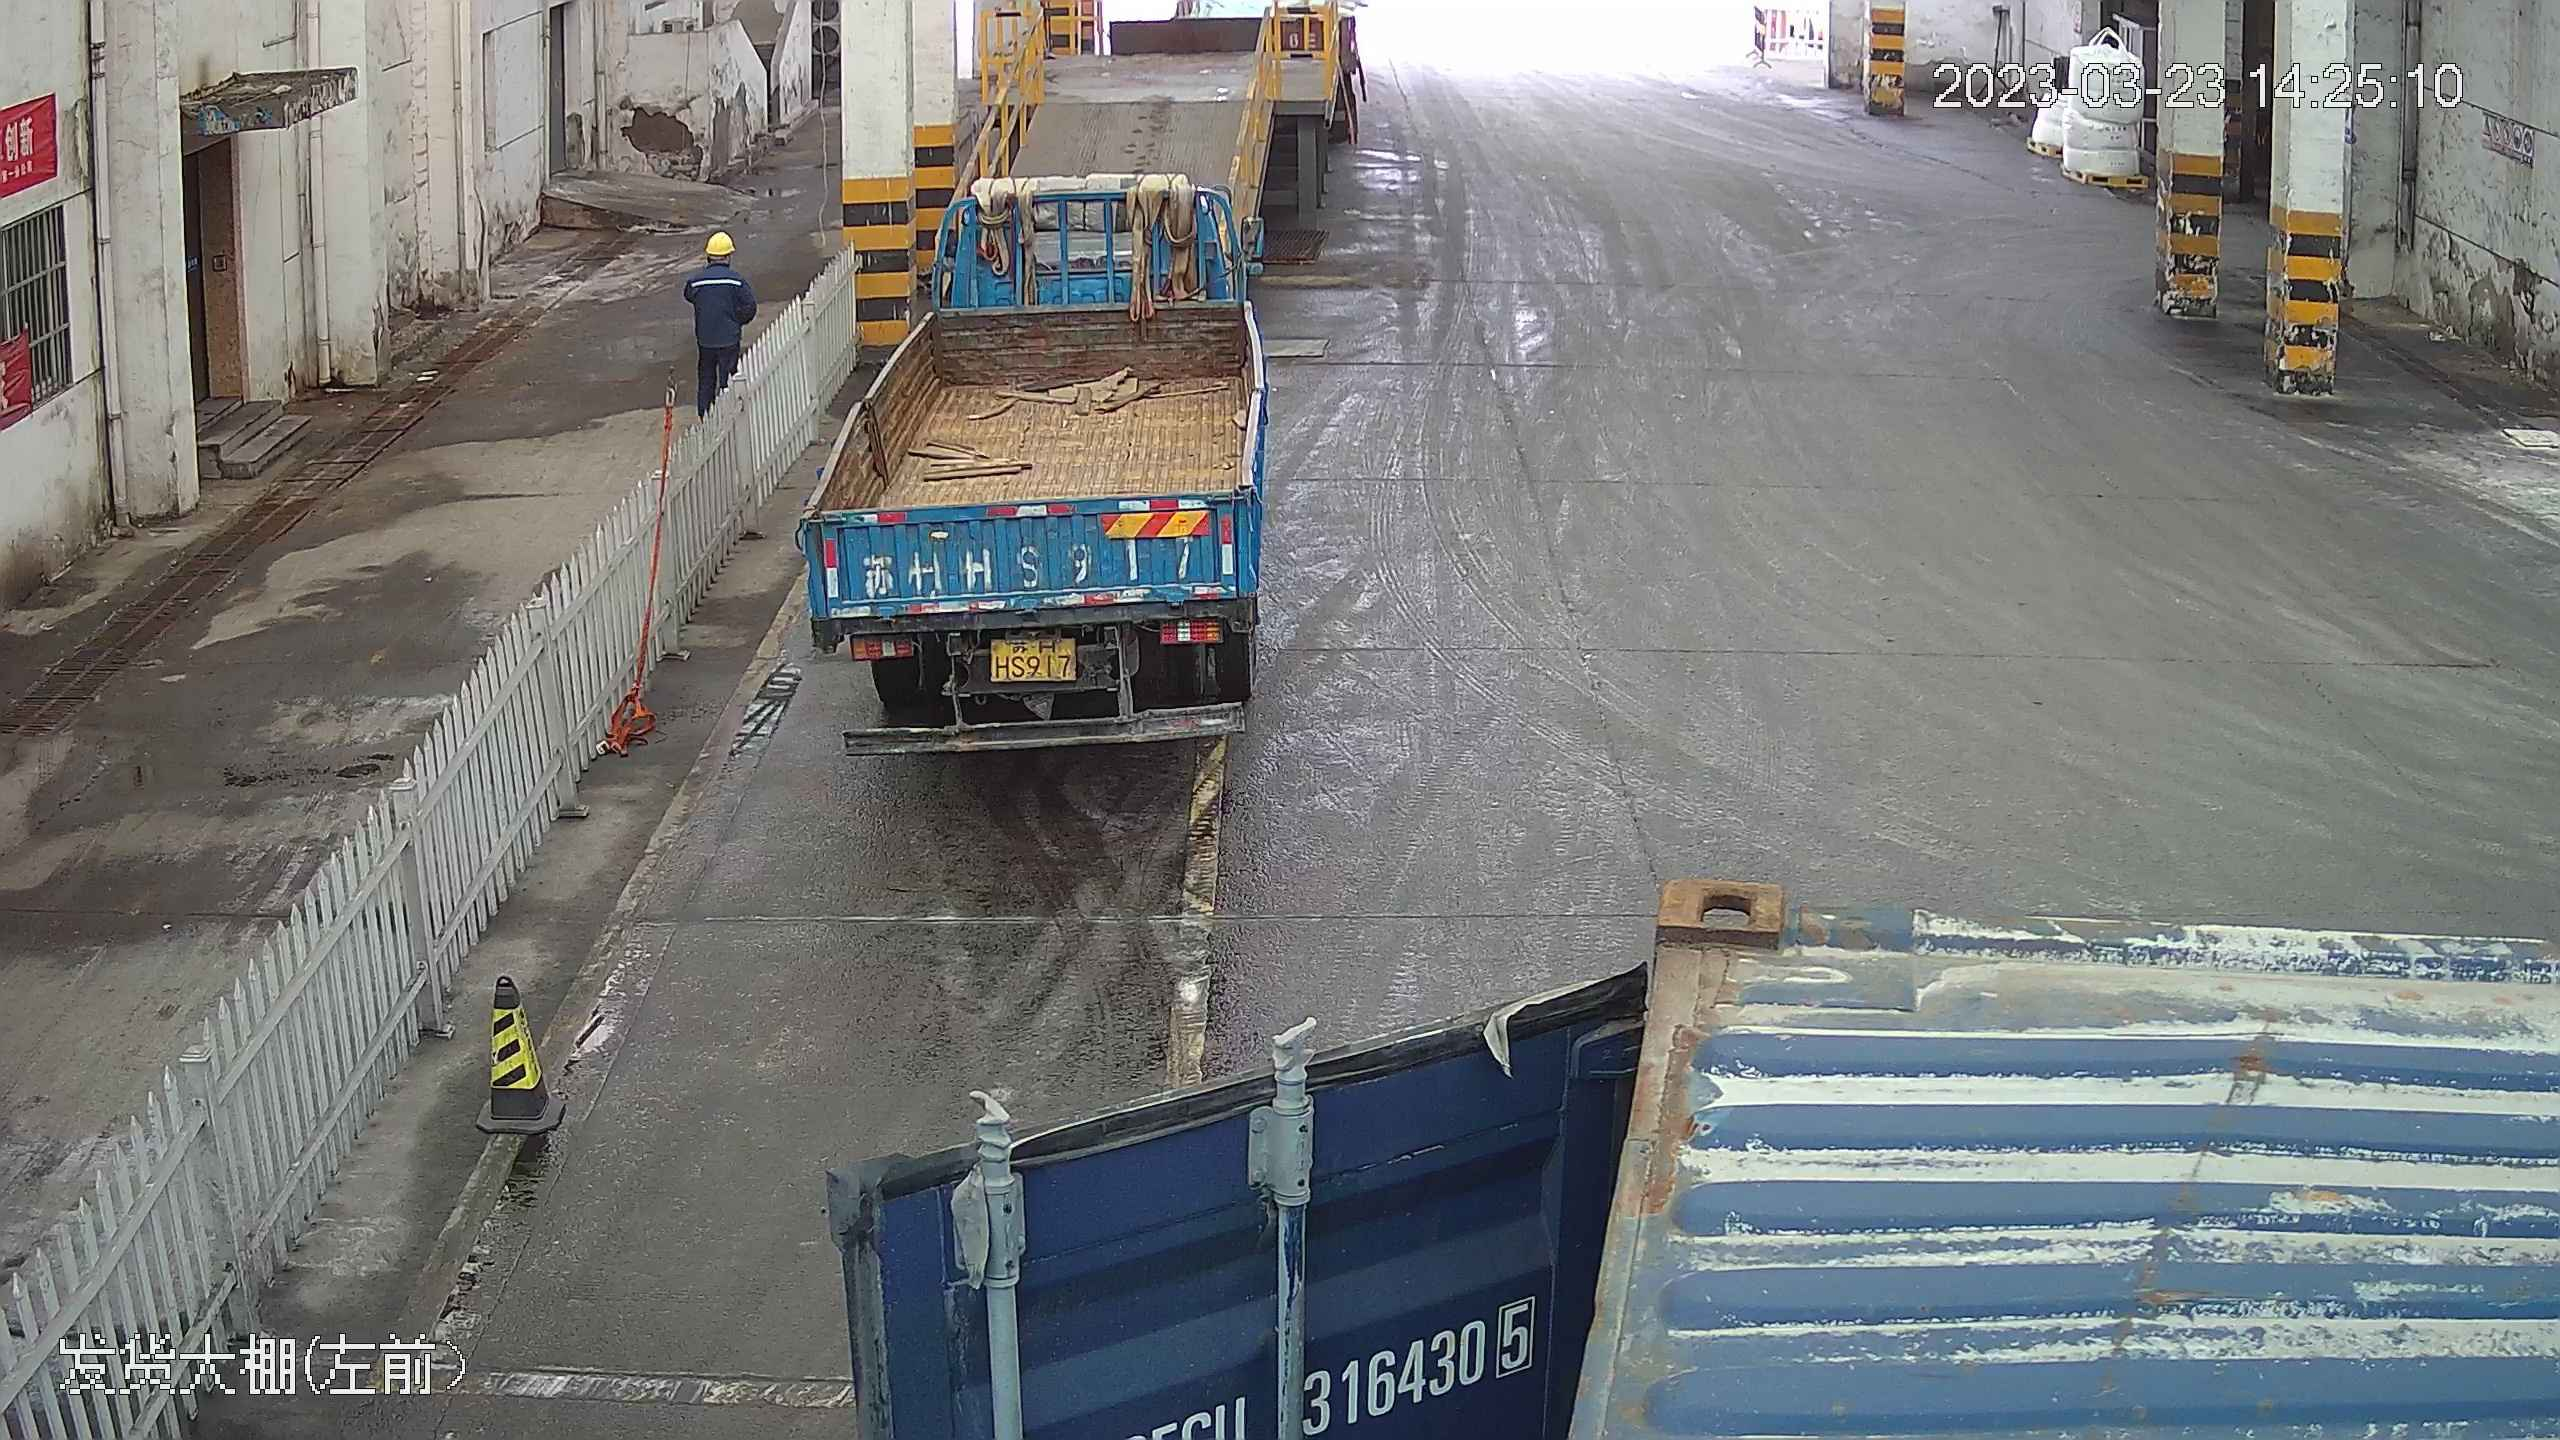head: (688, 230, 748, 291)
helmet: (703, 230, 736, 255)
people: (679, 226, 754, 415)
truck: (789, 7, 1285, 750)
